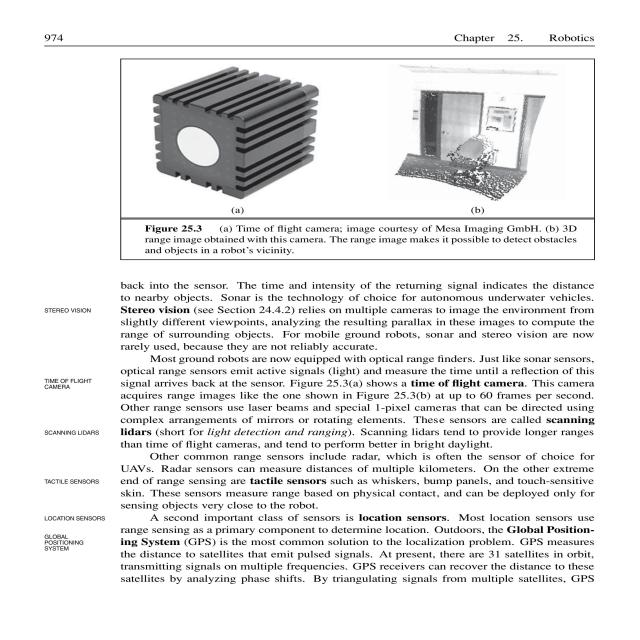diagram: (104, 51, 640, 274)
